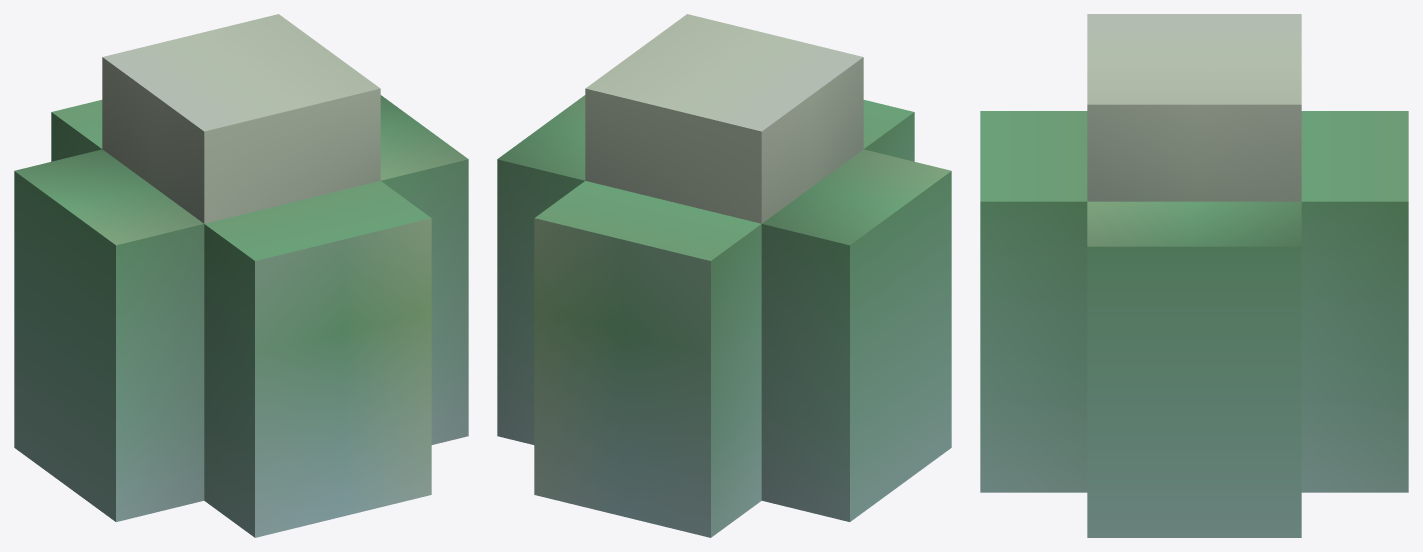
File: JarGreenGlass_01.fbx
3 views of the same model, side by side, from view 1: azimuth 30°, elevation 25°; view 2: azimuth 150°, elevation 25°; view 3: azimuth 270°, elevation 25° (orthographic). The views are drawn at different scales.
Visible parts, largest first — view 1: JarGreenGlass_01; view 2: JarGreenGlass_01; view 3: JarGreenGlass_01.
Boxes of the visible parts, bbox=[...] form: JarGreenGlass_01: bbox=[14, 14, 468, 537]; JarGreenGlass_01: bbox=[497, 14, 951, 537]; JarGreenGlass_01: bbox=[980, 14, 1408, 537].
Bounding box in the file's own units: 20 × 20 × 20.
1 material, 1 textured.
